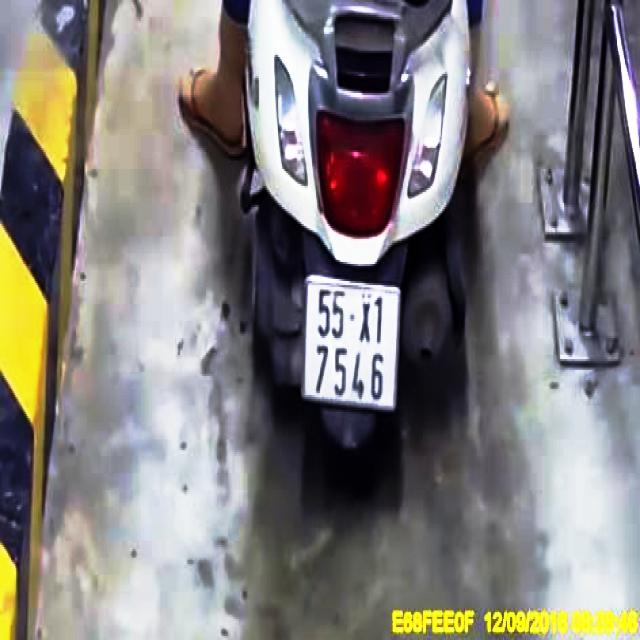license_plate: (301, 279, 401, 414)
